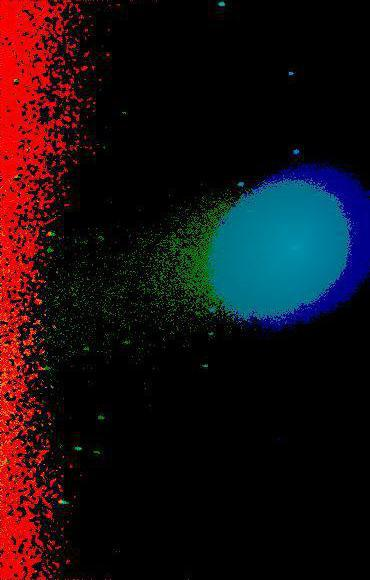star: (29, 163, 59, 193)
